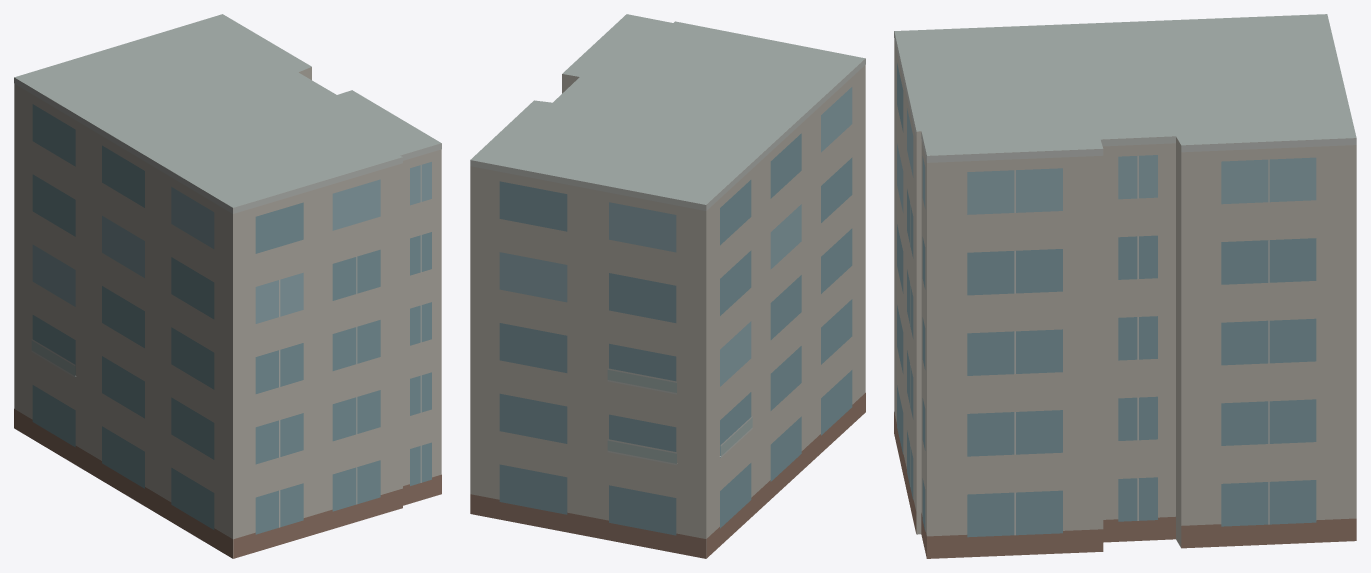
Rendered from survey-upis-32653988.glb.
The picture shows the model from 3 angles, left to right: view 1: azimuth 30°, elevation 25°; view 2: azimuth 150°, elevation 25°; view 3: azimuth 270°, elevation 25°; orthographic projection. The views are drawn at different scales.
Parts seen in each view (by area): view 1: survey-upis-32653988.tmp; view 2: survey-upis-32653988.tmp; view 3: survey-upis-32653988.tmp.
Boxes of the visible parts, x1,y1,x2,y2 form: survey-upis-32653988.tmp: (14, 14, 441, 558); survey-upis-32653988.tmp: (470, 14, 865, 558); survey-upis-32653988.tmp: (894, 14, 1356, 558).
Size of the model in its own units: 10.58 by 14 by 14.57.
